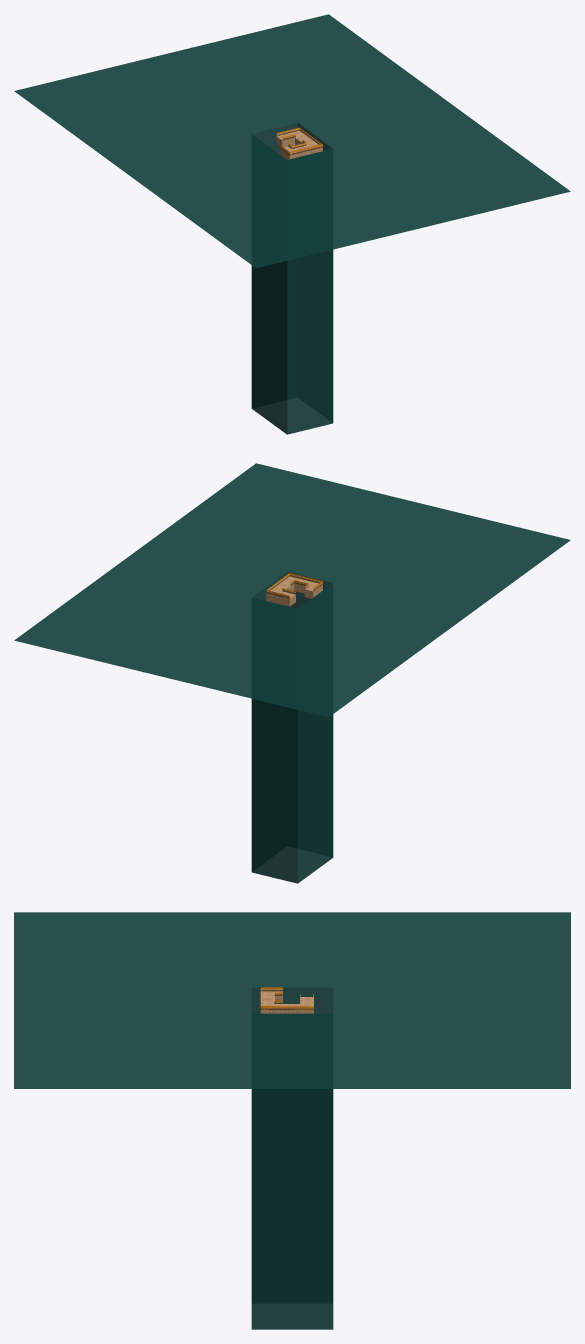
Rendered from Duel_Stage 38.fbx.
3 views of the same model, one above another, from view 1: azimuth 30°, elevation 25°; view 2: azimuth 150°, elevation 25°; view 3: azimuth 270°, elevation 25° (orthographic). The views are drawn at different scales.
Parts seen in each view (by area): view 1: Plane.132, CR_Wall_Low__7_; view 2: Plane.132, CR_Wall_Low__7_; view 3: Plane.132, CR_Wall_Low__7_.
Boxes of the visible parts, bbox=[...] form: Plane.132: bbox=[14, 14, 570, 434]; CR_Wall_Low__7_: bbox=[276, 130, 322, 159]; Plane.132: bbox=[14, 463, 570, 883]; CR_Wall_Low__7_: bbox=[266, 576, 322, 606]; Plane.132: bbox=[14, 912, 570, 1329]; CR_Wall_Low__7_: bbox=[260, 991, 313, 1013].
Bounding box in the file's own units: 41797 × 36078 × 55704.
